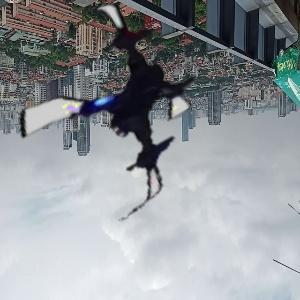drone: (2, 4, 219, 221)
